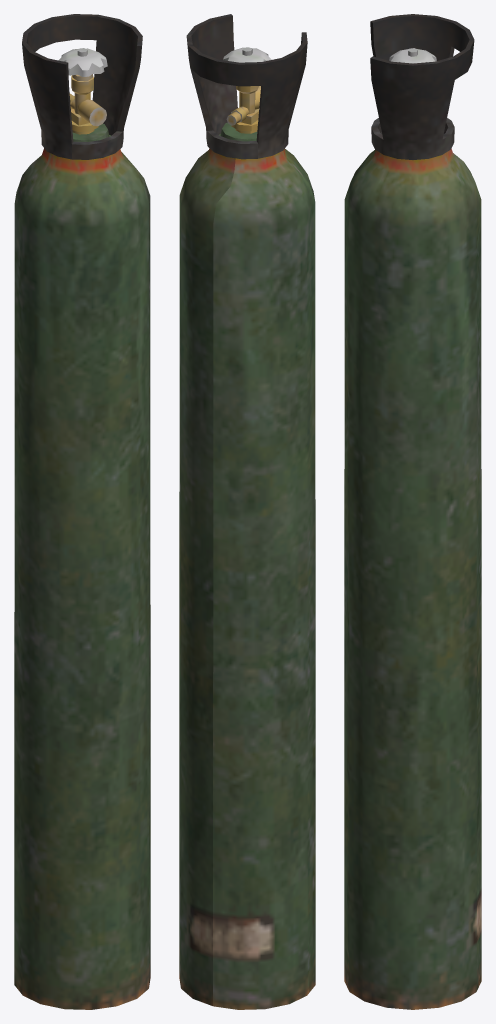
The model's file is sm22_034_gascylinder01a.fbx.
3 renders of one model, left to right at view 1: azimuth 30°, elevation 25°; view 2: azimuth 150°, elevation 25°; view 3: azimuth 270°, elevation 25°, orthographic.
Parts seen in each view (by area): view 1: LOD_1_Group_0_Sub_1__sm22_034_Gascylinder01A_A_Mat; view 2: LOD_1_Group_0_Sub_1__sm22_034_Gascylinder01A_A_Mat; view 3: LOD_1_Group_0_Sub_1__sm22_034_Gascylinder01A_A_Mat.
Part boxes in pixels (x1,y1,x2,y2): LOD_1_Group_0_Sub_1__sm22_034_Gascylinder01A_A_Mat: (14,14,150,1009); LOD_1_Group_0_Sub_1__sm22_034_Gascylinder01A_A_Mat: (179,14,315,1009); LOD_1_Group_0_Sub_1__sm22_034_Gascylinder01A_A_Mat: (344,14,481,1009).
Bounding box in the file's own units: 0.2433 × 1.84 × 0.2433.
